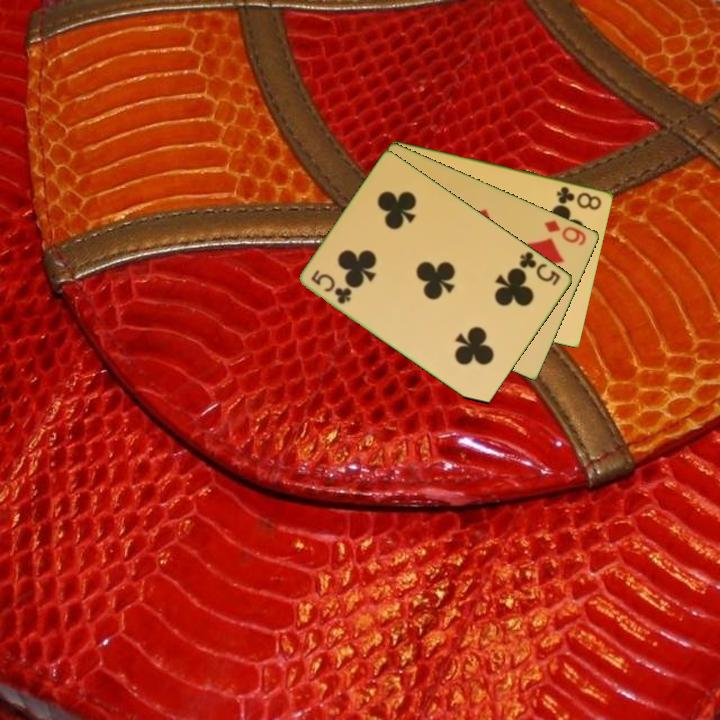5c: (516, 248, 564, 289), (308, 266, 355, 307)
6d: (541, 216, 590, 249)
8c: (553, 183, 605, 213)
